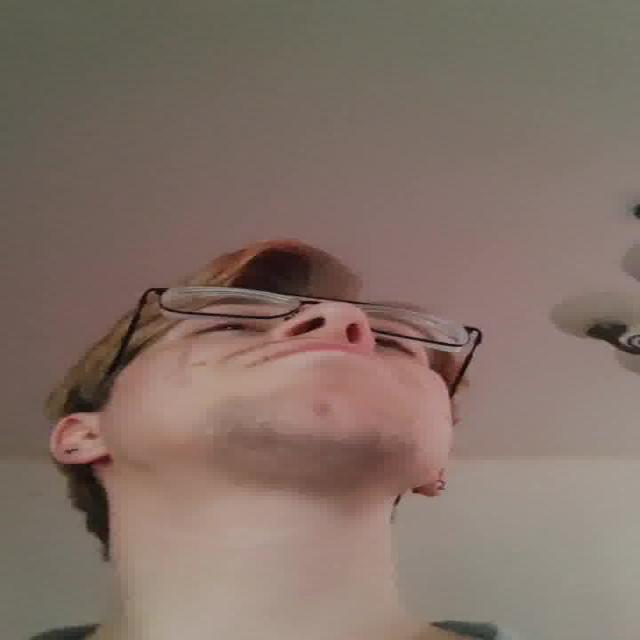earlobe: (66, 440, 105, 466), (417, 478, 451, 498)
eye: (188, 320, 260, 338), (374, 334, 424, 357)
nose: (280, 325, 372, 348)
wholeear: (47, 411, 105, 466)
